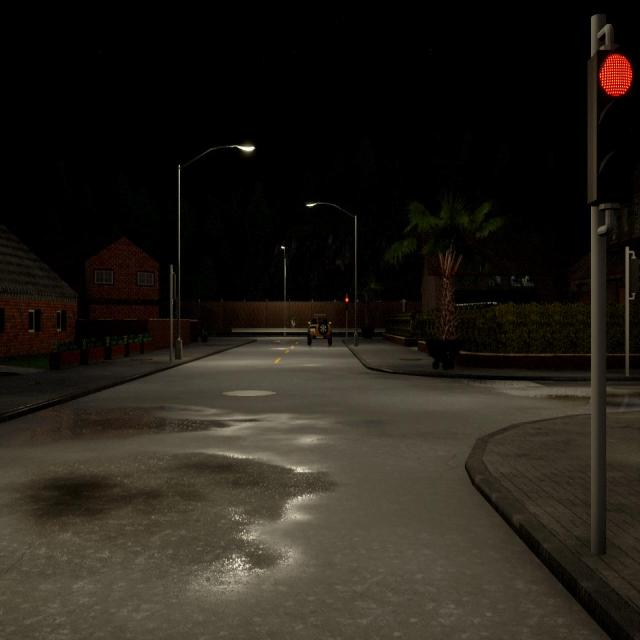Pedestrian: (290, 314, 296, 328)
Vehicle: (307, 314, 333, 346)
traffic_light: (589, 46, 635, 208), (629, 258, 640, 294), (172, 274, 176, 300), (345, 297, 349, 310)
